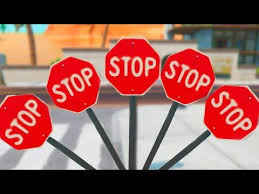stop: (103, 37, 161, 96), (46, 56, 100, 113), (162, 46, 213, 105)
